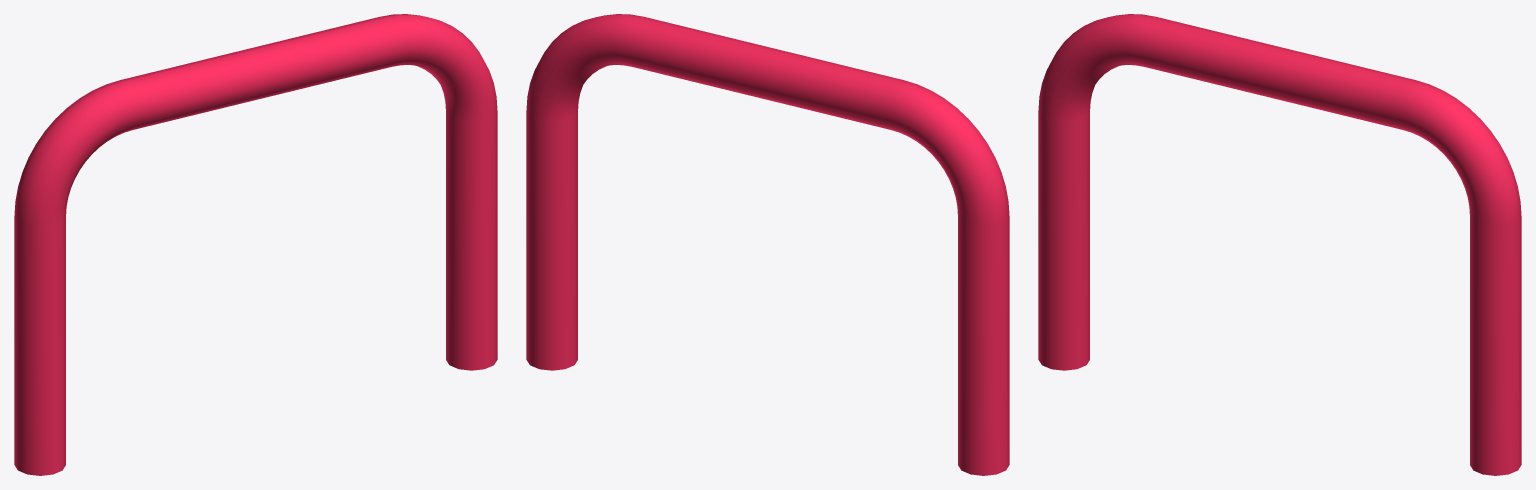
Rendered from gateLargeWide_teamRed-col.glb.
3 views of the same model, side by side, from view 1: azimuth 30°, elevation 25°; view 2: azimuth 150°, elevation 25°; view 3: azimuth 330°, elevation 25° (orthographic).
Visible parts, largest first — view 1: gateLargeWide_teamRed-col; view 2: gateLargeWide_teamRed-col; view 3: gateLargeWide_teamRed-col.
Boxes of the visible parts, bbox=[...] form: gateLargeWide_teamRed-col: bbox=[14, 14, 497, 475]; gateLargeWide_teamRed-col: bbox=[526, 14, 1009, 475]; gateLargeWide_teamRed-col: bbox=[1038, 14, 1521, 475].
Size of the model in its own units: 4.4 by 3.2 by 0.4126.
